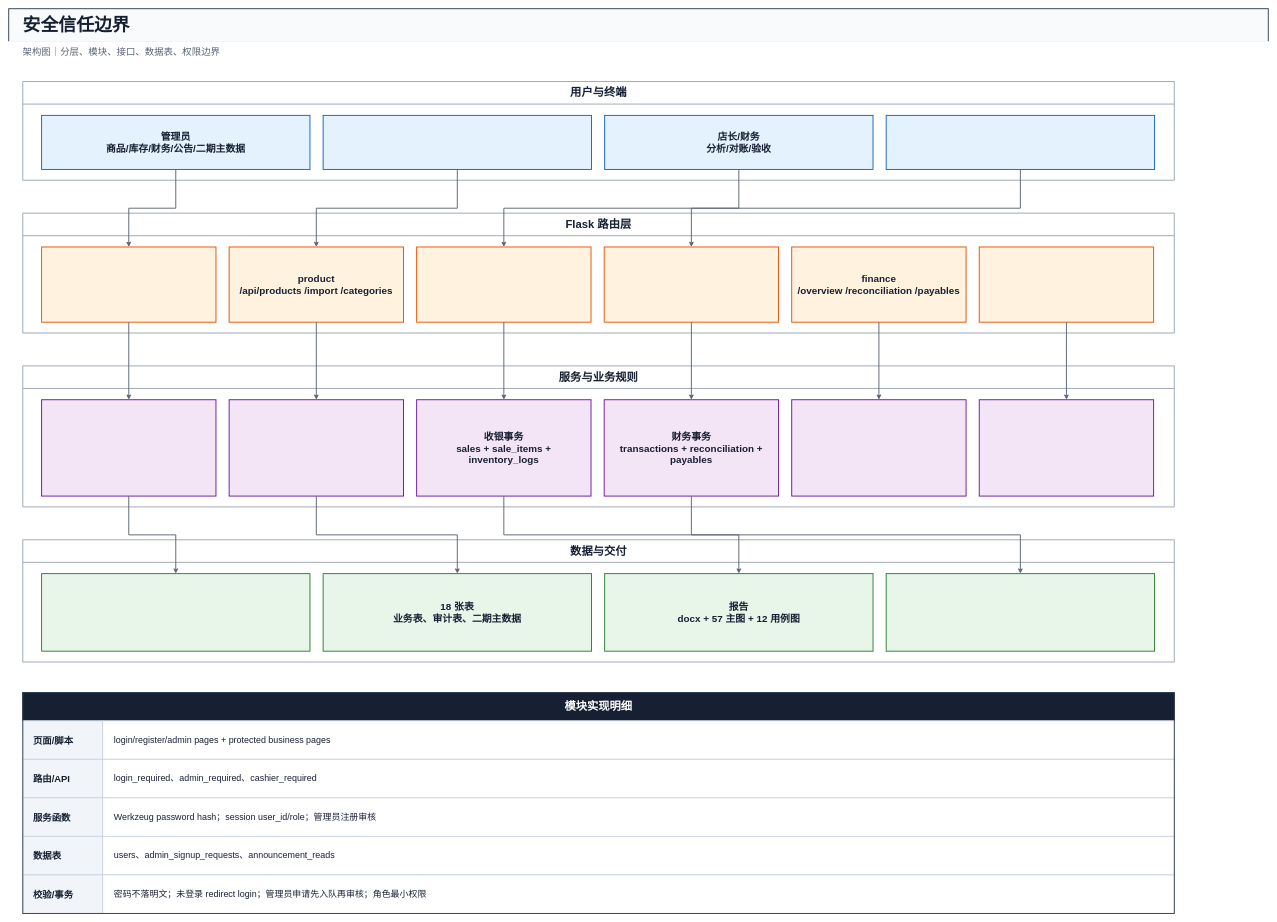
Some shapes in this 1277 by 922 pixel diagram are drawn without their labels. Each missing label, with the centre of its shape:
"auth /login /register /logout" belongs at [128,284].
"cashier/sales /checkout /orders /detail" belongs at [691,284].
"inventory /summary /list /logs /alerts" belongs at [503,284].
"second_phase /members /employees /suppliers /settings" belongs at [1066,284].
"SQLite schema.sql + seed_data.sql" belongs at [175,612].
"可编辑图 中文 .drawio + PNG" belongs at [1020,612].
"商品库存 create/update/import + set_inventory_quantity" belongs at [316,447].
"收银员 收银/销售/公告/助手" belongs at [457,142].
"智能助手 本地规则 + 可选 LLM 降级" belongs at [878,447].
"权限 login_required/admin_required" belongs at [128,447].
"测试 pytest + coverage 100%" belongs at [1066,447].
"浏览器 Jinja2 页面 + JS fetch" belongs at [1020,142].
